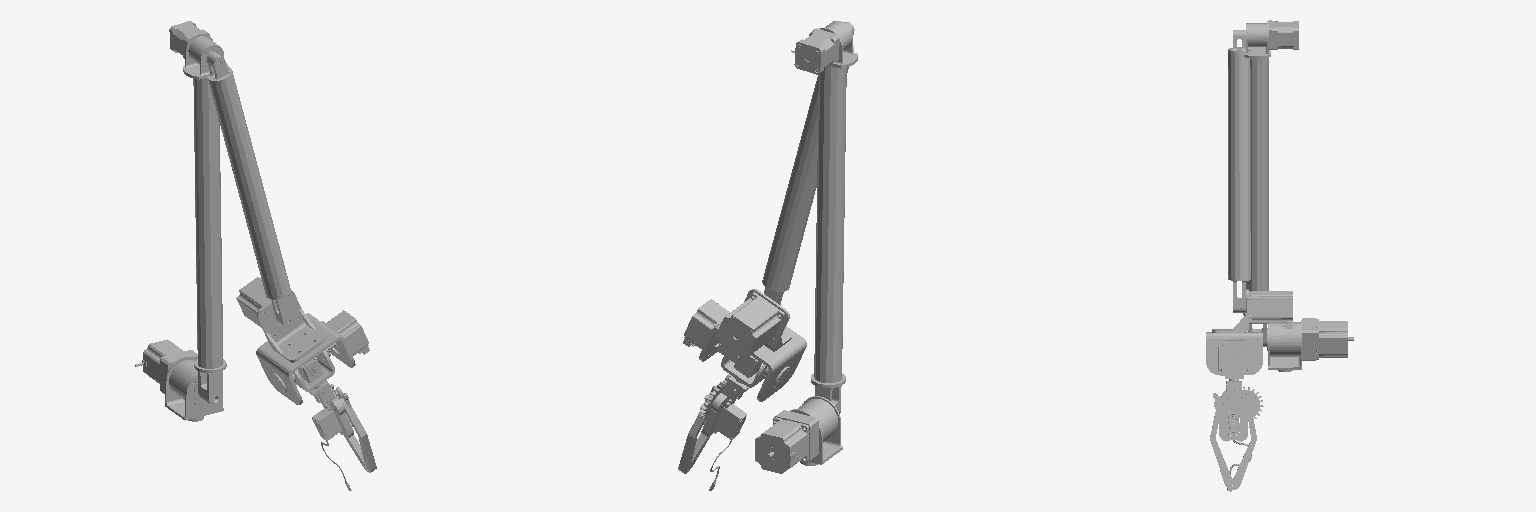
URDF robot description (chopsticks_two):
<?xml version="1.0" encoding="utf-8"?>
<!-- This URDF was automatically created by SolidWorks to URDF Exporter! Originally created by [author] ([email redacted]) 
     Commit Version: 1.6.0-4-g7f85cfe  Build Version: 1.6.7995.38578
     For more information, please see http://wiki.ros.org/sw_urdf_exporter -->
<robot
  name="chopsticks_two">
  <link
    name="Link_1">
    <inertial>
      <origin
        xyz="0.0626852555776957 0.0196504997031689 0.0301495542089222"
        rpy="0 0 0" />
      <mass
        value="0.505174918775633" />
      <inertia
        ixx="0.000302564815061711"
        ixy="1.01044720595202E-06"
        ixz="8.06165852724881E-09"
        iyy="0.00039312506275081"
        iyz="-5.60012256998489E-10"
        izz="0.000466582207237563" />
    </inertial>
    <visual>
      <origin
        xyz="0 0 0"
        rpy="0 0 0" />
      <geometry>
        <mesh
          filename="package://chopsticks_two_description/meshes/Link_1.STL" />
      </geometry>
      <material
        name="">
        <color
          rgba="0.752941176470588 0.752941176470588 0.752941176470588 1" />
      </material>
    </visual>
    <collision>
      <origin
        xyz="0 0 0"
        rpy="0 0 0" />
      <geometry>
        <mesh
          filename="package://chopsticks_two_description/meshes/Link_1.STL" />
      </geometry>
    </collision>
  </link>
  <link
    name="Link_2">
    <inertial>
      <origin
        xyz="-8.0638E-05 0.010417 0.053608"
        rpy="0 0 0" />
      <mass
        value="0.2937" />
      <inertia
        ixx="0.00014913"
        ixy="-4.8763E-08"
        ixz="-1.8942E-08"
        iyy="0.00015543"
        iyz="2.441E-06"
        izz="0.00014802" />
    </inertial>
    <visual>
      <origin
        xyz="0 0 0"
        rpy="0 0 0" />
      <geometry>
        <mesh
          filename="package://chopsticks_two_description/meshes/Link_2.STL" />
      </geometry>
      <material
        name="">
        <color
          rgba="0.75294 0.75294 0.75294 1" />
      </material>
    </visual>
    <collision>
      <origin
        xyz="0 0 0"
        rpy="0 0 0" />
      <geometry>
        <mesh
          filename="package://chopsticks_two_description/meshes/Link_2.STL" />
      </geometry>
    </collision>
  </link>
  <joint
    name="Joint_12"
    type="revolute">
    <origin
      xyz="0 0 0.1023"
      rpy="0 0 0" />
    <parent
      link="Link_1" />
    <child
      link="Link_2" />
    <axis
      xyz="0 0 -1" />
    <limit effort="330" velocity="3" lower="-2.0944" upper="2.0944"/> 
  </joint>
  <link
    name="Link_3">
    <inertial>
      <origin
        xyz="-0.0054615 -0.043424 0.34431"
        rpy="0 0 0" />
      <mass
        value="0.54486" />
      <inertia
        ixx="0.0039997"
        ixy="-1.5784E-08"
        ixz="6.0737E-05"
        iyy="0.0040014"
        iyz="8.8276E-07"
        izz="0.00017244" />
    </inertial>
    <visual>
      <origin
        xyz="0 0 0"
        rpy="0 0 0" />
      <geometry>
        <mesh
          filename="package://chopsticks_two_description/meshes/Link_3.STL" />
      </geometry>
      <material
        name="">
        <color
          rgba="0.75294 0.75294 0.75294 1" />
      </material>
    </visual>
    <collision>
      <origin
        xyz="0 0 0"
        rpy="0 0 0" />
      <geometry>
        <mesh
          filename="package://chopsticks_two_description/meshes/Link_3.STL" />
      </geometry>
    </collision>
  </link>
  <joint
    name="Joint_23"
    type="revolute">
    <origin
      xyz="0 0 0.0570000000000001"
      rpy="0 0 0.0077400490877737" />
    <parent
      link="Link_2" />
    <child
      link="Link_3" />
    <axis
      xyz="0 -1 0" />
    <limit effort="330" velocity="3" lower="0" upper="1.745433"/> 
  </joint>
  <link
    name="Link_4">
    <inertial>
      <origin
        xyz="0.059771 -0.023521 -0.24142"
        rpy="0 0 0" />
      <mass
        value="0.33495" />
      <inertia
        ixx="0.0019607"
        ixy="-7.2625E-09"
        ixz="0.00046379"
        iyy="0.0020737"
        iyz="2.7205E-08"
        izz="0.0002019" />
    </inertial>
    <visual>
      <origin
        xyz="0 0 0"
        rpy="0 0 0" />
      <geometry>
        <mesh
          filename="package://chopsticks_two_description/meshes/Link_4.STL" />
      </geometry>
      <material
        name="">
        <color
          rgba="0.75294 0.75294 0.75294 1" />
      </material>
    </visual>
    <collision>
      <origin
        xyz="0 0 0"
        rpy="0 0 0" />
      <geometry>
        <mesh
          filename="package://chopsticks_two_description/meshes/Link_4.STL" />
      </geometry>
    </collision>
  </link>
  <joint
    name="Joint_34"
    type="revolute">
    <origin
      xyz="-0.00928107122587152 -0.0570821972986843 0.584926372902522"
      rpy="0 -0.015865744635979 0" />
    <parent
      link="Link_3" />
    <child
      link="Link_4" />
    <axis
      xyz="0 -1 0" />
      <limit effort="330" velocity="3" lower="0" upper="2.096706"/>
  </joint>
  <link
    name="Link_5">
    <inertial>
      <origin
        xyz="0.0155515409914033 -0.0046372273869733 -0.0388837787653548"
        rpy="0 0 0" />
      <mass
        value="0.522951900413097" />
      <inertia
        ixx="0.000368393588764988"
        ixy="1.04127804953208E-08"
        ixz="-4.84932910917483E-06"
        iyy="0.000456042697243864"
        iyz="-1.20493463473004E-05"
        izz="0.00048158051785595" />
    </inertial>
    <visual>
      <origin
        xyz="0 0 0"
        rpy="0 0 0" />
      <geometry>
        <mesh
          filename="package://chopsticks_two_description/meshes/Link_5.STL" />
      </geometry>
      <material
        name="">
        <color
          rgba="0.752941176470588 0.752941176470588 0.752941176470588 1" />
      </material>
    </visual>
    <collision>
      <origin
        xyz="0 0 0"
        rpy="0 0 0" />
      <geometry>
        <mesh
          filename="package://chopsticks_two_description/meshes/Link_5.STL" />
      </geometry>
    </collision>
  </link>
  <joint
    name="Joint_45"
    type="revolute">
    <origin
      xyz="0.11655 0 -0.47079"
      rpy="0 -0.40005 0" />
    <parent
      link="Link_4" />
    <child
      link="Link_5" />
    <axis
      xyz="0 1 0" />
    <limit effort="330" velocity="3" lower="-1.5708" upper="1.5708"/>  
  </joint>
  <link
    name="Link_6">
    <inertial>
      <origin
        xyz="-0.002351869106681 -0.000161782865802255 -0.0103380305659397"
        rpy="0 0 0" />
      <mass
        value="0.0638713601202275" />
      <inertia
        ixx="1.5634441298313E-05"
        ixy="-8.58158150492591E-11"
        ixz="-1.20530568164231E-11"
        iyy="2.71302566194123E-05"
        iyz="8.02461778074979E-09"
        izz="2.8253205876481E-05" />
    </inertial>
    <visual>
      <origin
        xyz="0 0 0"
        rpy="0 0 0" />
      <geometry>
        <mesh
          filename="package://chopsticks_two_description/meshes/Link_6.STL" />
      </geometry>
      <material
        name="">
        <color
          rgba="0.752941176470588 0.752941176470588 0.752941176470588 1" />
      </material>
    </visual>
    <collision>
      <origin
        xyz="0 0 0"
        rpy="0 0 0" />
      <geometry>
        <mesh
          filename="package://chopsticks_two_description/meshes/Link_6.STL" />
      </geometry>
    </collision>
  </link>
  <joint
    name="Joint_56"
    type="revolute">
    <origin
      xyz="0 -0.033518 -0.085"
      rpy="-0.017013 0 0" />
    <parent
      link="Link_5" />
    <child
      link="Link_6" />
    <axis
      xyz="1 0 0" />
    <limit effort="330" velocity="3" lower="0" upper="6.28319"/>  
  </joint>
  <link
    name="Gripper">
    <inertial>
      <origin
        xyz="0.0052671 -0.0044673 -0.052262"
        rpy="0 0 0" />
      <mass
        value="0.10828" />
      <inertia
        ixx="0.00012904"
        ixy="-3.7693E-08"
        ixz="2.2958E-06"
        iyy="0.00011742"
        iyz="4.9655E-06"
        izz="2.1257E-05" />
    </inertial>
    <visual>
      <origin
        xyz="0 0 0"
        rpy="0 0 0" />
      <geometry>
        <mesh
          filename="package://chopsticks_two_description/meshes/Gripper.STL" />
      </geometry>
      <material
        name="">
        <color
          rgba="0.75294 0.75294 0.75294 1" />
      </material>
    </visual>
    <collision>
      <origin
        xyz="0 0 0"
        rpy="0 0 0" />
      <geometry>
        <mesh
          filename="package://chopsticks_two_description/meshes/Gripper.STL" />
      </geometry>
    </collision>
  </link>
  <joint
    name="Joint_6G"
    type="revolute">
    <origin
      xyz="-0.00243 0 -0.06033"
      rpy="0 0 0.0089877" />
    <parent
      link="Link_6" />
    <child
      link="Gripper" />
    <axis
      xyz="0 0 -1" />
   <limit effort="330" velocity="3" lower="-1.5708" upper="1.5708"/> 
  </joint>
</robot>

--- Render facts (derived) ---
3 views of the same robot in one strip: view 1: azimuth 30°, elevation 25°; view 2: azimuth 150°, elevation 25°; view 3: azimuth 270°, elevation 25° (orthographic).
Model chopsticks_two with 7 links and 6 joints (6 revolute), rooted at Link_1, posed every joint at zero.
Links seen in each view (by area): view 1: Link_3, Link_4, Link_5, Link_2, Gripper, Link_6; view 2: Link_3, Link_5, Link_4, Link_2, Gripper, Link_6; view 3: Link_3, Link_4, Link_5, Link_2, Gripper.
Boxes of the visible links, left/top/right/bottom form: Link_3: left=169, top=21, right=228, bottom=406; Link_4: left=207, top=52, right=294, bottom=327; Link_5: left=236, top=277, right=369, bottom=404; Link_2: left=135, top=339, right=223, bottom=421; Gripper: left=309, top=380, right=376, bottom=490; Link_6: left=292, top=348, right=334, bottom=391; Link_3: left=791, top=21, right=857, bottom=413; Link_5: left=683, top=289, right=806, bottom=401; Link_4: left=762, top=22, right=854, bottom=304; Link_2: left=755, top=396, right=842, bottom=473; Gripper: left=678, top=374, right=749, bottom=490; Link_6: left=721, top=355, right=768, bottom=387; Link_3: left=1243, top=20, right=1298, bottom=346; Link_4: left=1228, top=30, right=1250, bottom=312; Link_5: left=1206, top=289, right=1292, bottom=378; Link_2: left=1267, top=318, right=1353, bottom=371; Gripper: left=1210, top=379, right=1263, bottom=491.
Size in the robot's own frame: 0.3117 by 0.2615 by 0.8025 metres.
6 mesh visuals loaded from 7 distinct referenced files (6 binary STL); not drawn: 1 (reference not matched to a file when rendering).